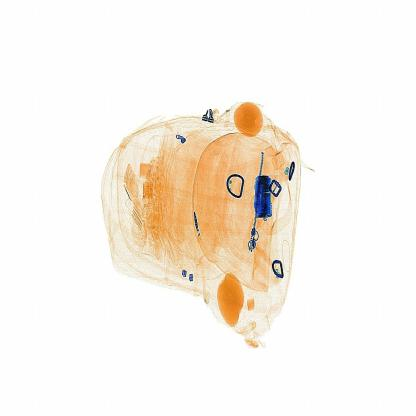scissors: (248, 164, 279, 228)
